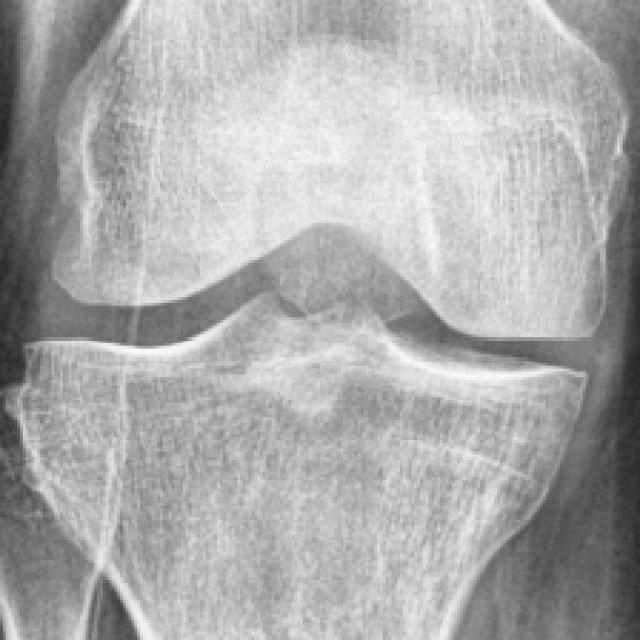femur: (53, 1, 628, 334)
tibia: (14, 294, 580, 637)
